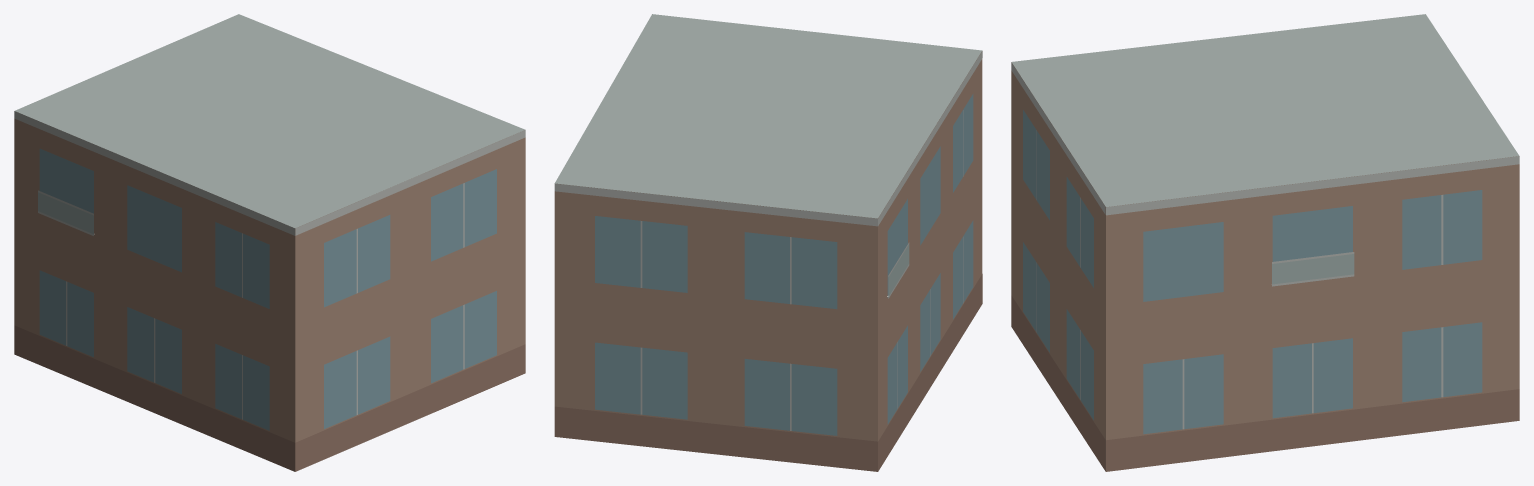
File: survey-upis-32612057.glb
The picture shows the model from 3 angles, left to right: view 1: azimuth 30°, elevation 25°; view 2: azimuth 150°, elevation 25°; view 3: azimuth 270°, elevation 25°; orthographic projection. The views are drawn at different scales.
Visible parts, largest first — view 1: survey-upis-32612057.tmp; view 2: survey-upis-32612057.tmp; view 3: survey-upis-32612057.tmp.
Boxes of the visible parts, box(x1,y1,x2,y2) form: survey-upis-32612057.tmp: box(14, 14, 525, 471); survey-upis-32612057.tmp: box(554, 14, 982, 471); survey-upis-32612057.tmp: box(1011, 14, 1519, 471).
Size of the model in its own units: 12.21 by 7.8 by 13.58.
